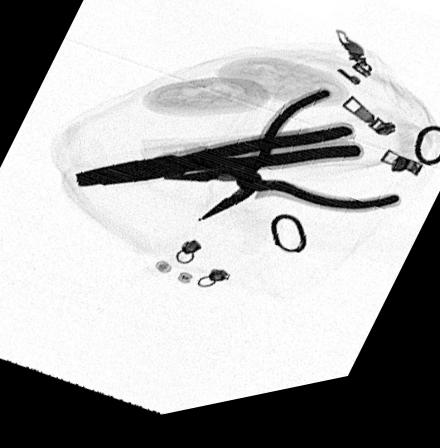Pliers: (162, 99, 401, 232), (75, 137, 366, 192)
